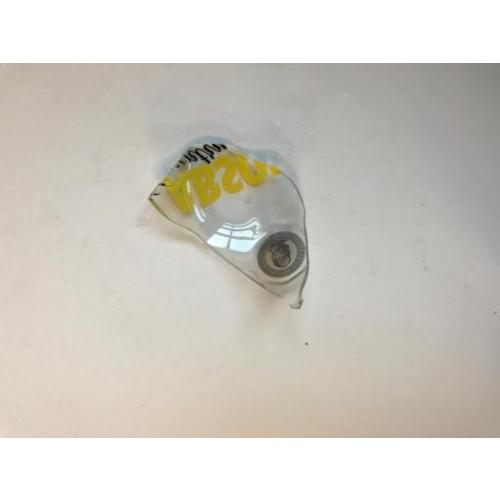glass: (150, 138, 317, 293)
